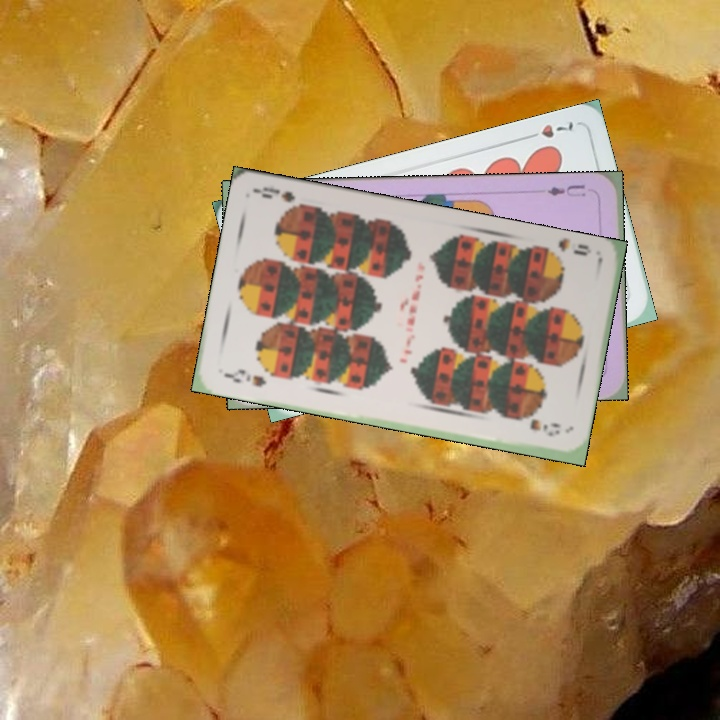EU: (543, 180, 588, 199)
H7: (520, 117, 576, 142)
S9: (539, 236, 594, 261), (219, 365, 269, 389)
